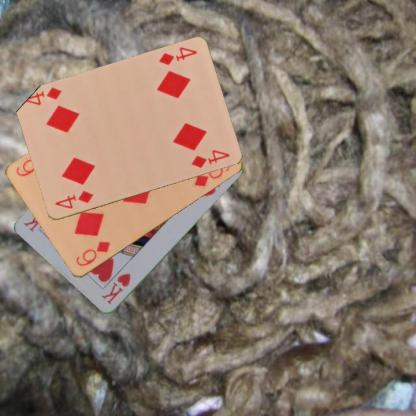4d: (52, 188, 94, 211), (156, 45, 198, 67)
6d: (73, 239, 111, 268)
Kh: (98, 271, 134, 306)
